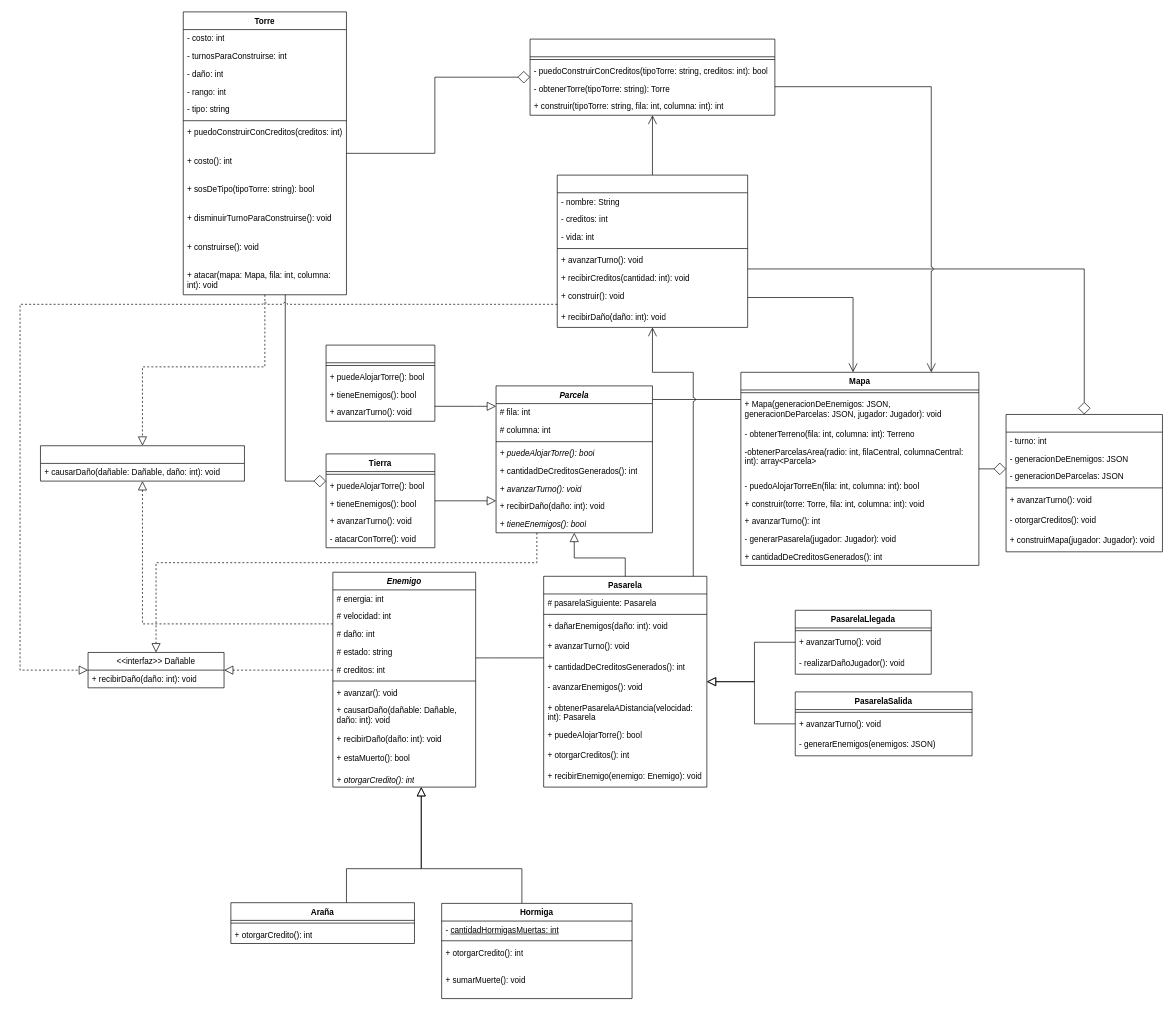
Image size: 1174x1013. Some labels were removed from this diagram. The shapes that lost their labels are listed below. From the top down, each one's box as (x1, y1, x2, y2) in pixels, then its label:
(529, 38, 775, 115): Constructor
(557, 174, 748, 327): Jugador
(325, 344, 435, 421): Rocoso
(40, 445, 244, 481): <<interfaz>> Atacante
(1005, 414, 1162, 552): Juego
